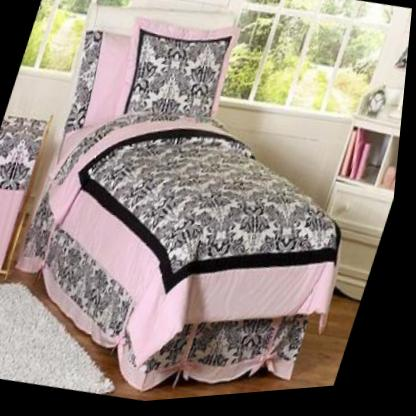Bed: (0, 0, 408, 404)
